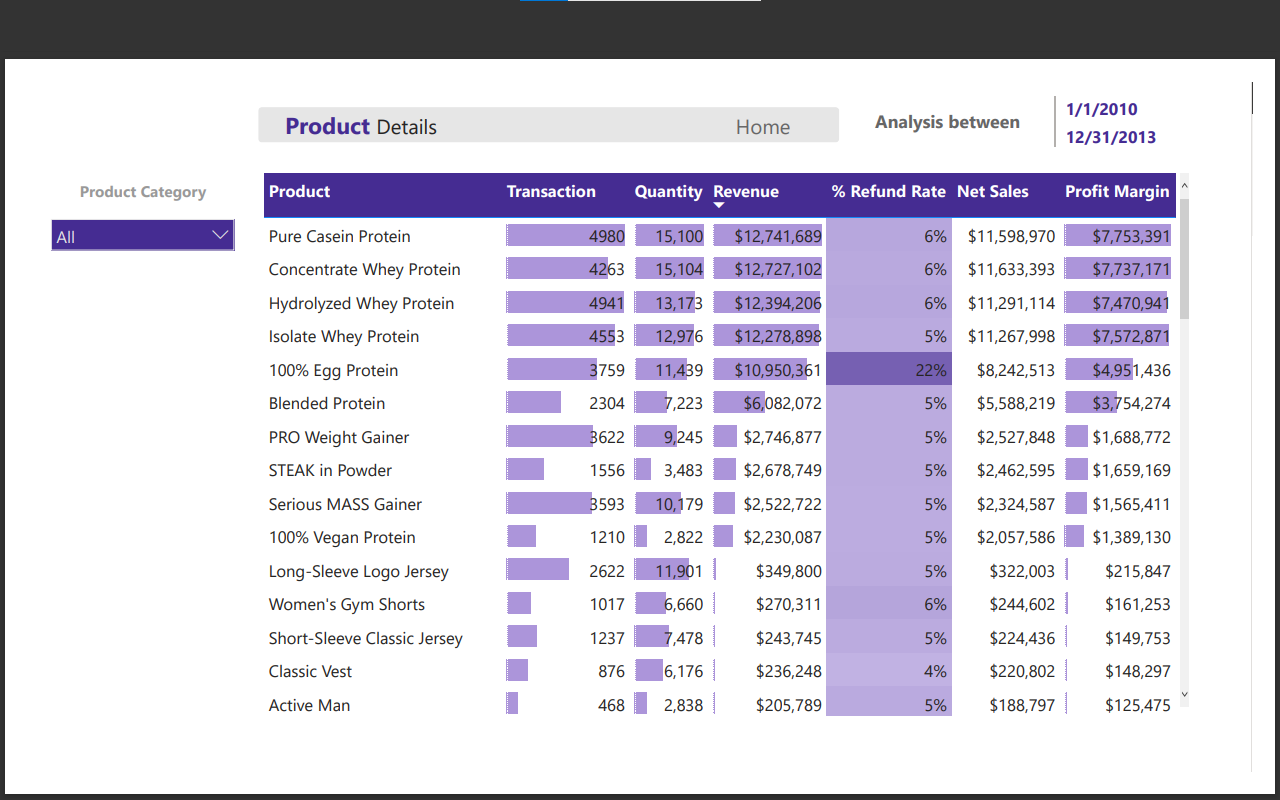

Layout of this report page (visuals, bound fields, positions):
{"tool":"powerbi","page":{"name":"Product Detail","canvas":[1280,720],"ordinal":6},"visuals":[{"type":"shape","box":[241.2,26.4,608.2,36.4],"z":0},{"type":"tableEx","fields":{"Values":["Dim_Products.ProductName","All Measure.Total Transaction","All Measure.QTY","All Measure.Revenue","All Measure.% Refund Rate","All Measure.Net Sales","All Measure.Gross Profit"]},"box":[241.2,90.5,978.8,576.8],"z":1000},{"type":"slicer","fields":{"Values":["Dim_ProductCategory.CategoryName"]},"box":[13.8,133.2,212.3,52.8],"z":2000},{"type":"textbox","box":[14.3,97.5,212.3,35.8],"z":3000},{"type":"actionButton","box":[707.4,22.6,124.4,44],"z":4000},{"type":"textbox","box":[263.9,22.6,310.4,44],"z":5000},{"type":"multiRowCard","fields":{"Values":["All Measure.first Date","All Measure.Last date"]},"box":[1069.3,10.1,121.9,70.4],"z":6000},{"type":"textbox","box":[869.5,22.6,186,44],"z":7000},{"type":"actionButton","box":[13.8,10.1,64.1,62.8],"z":7001}]}

Visuals, with their boxes on the page's 1280x720 design canvas (x1, y1, x2, y2). These are canvas units, not pixel positions in the 1280x800 screenshot, which may show the page scaled, cropped or inside an application window:
shape: detection(241, 26, 849, 63)
tableEx - Dim_Products.ProductName x All Measure.Total Transaction: detection(241, 90, 1220, 667)
slicer - Dim_ProductCategory.CategoryName: detection(14, 133, 226, 186)
textbox: detection(14, 98, 227, 133)
actionButton: detection(707, 23, 832, 67)
textbox: detection(264, 23, 574, 67)
multiRowCard - All Measure.first Date x All Measure.Last date: detection(1069, 10, 1191, 80)
textbox: detection(870, 23, 1056, 67)
actionButton: detection(14, 10, 78, 73)
